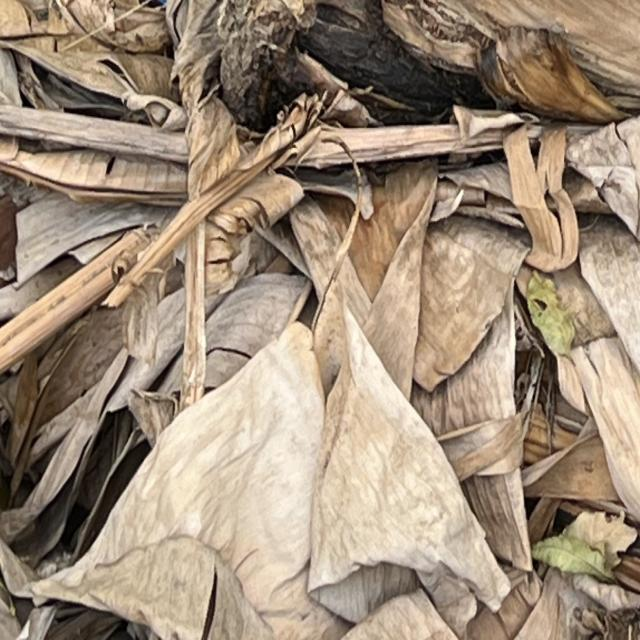General: (2, 2, 637, 638)
Sharps: (1, 88, 329, 380)
